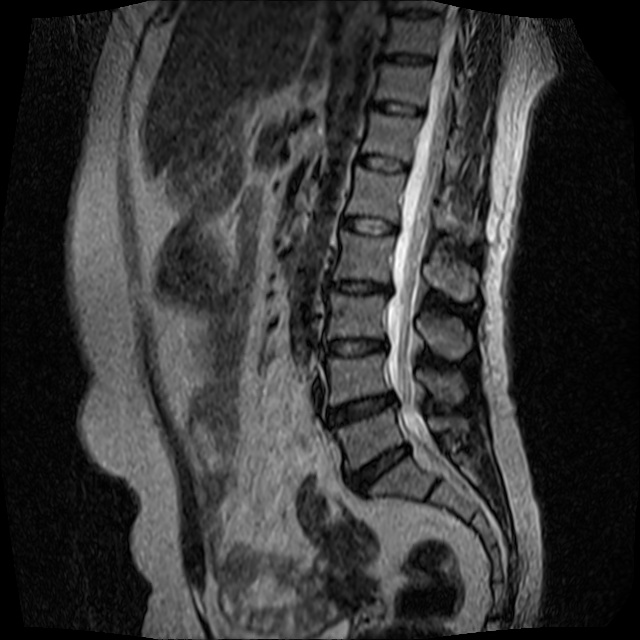L1,v1: (342, 174, 409, 211)
L1-L2,v1: (337, 206, 404, 243)
L2,v2: (328, 239, 395, 276)
L2-L3,v3: (323, 271, 390, 308)
L3,v2: (321, 302, 388, 339)
L3-L4,v2: (321, 331, 388, 368)
L4,v2: (323, 360, 390, 397)
L4-L5,v2: (328, 391, 395, 428)
L5,v2: (337, 420, 404, 457)
L5-S1,v2: (349, 445, 416, 482)
T12-L1,v1: (352, 146, 419, 183)
